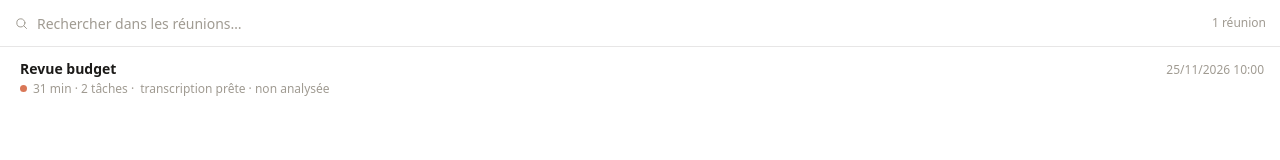
Test: MeetingsView › searches with debounce and shows highlighted matches
The width and height of the screenshot is (1280, 160).
In the search field labelled "Rechercher dans les réunions": (620, 23) [37,10,1204,36], type "budget Q1"
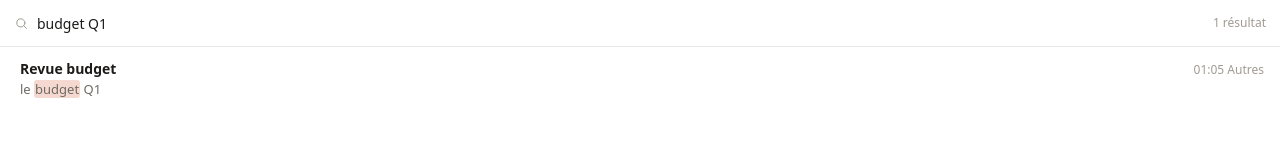
Expected: the text "budget" is shown, [34,80,80,98]
Expected: the text "01:05 Autres" is shown, [1194,61,1264,78]
